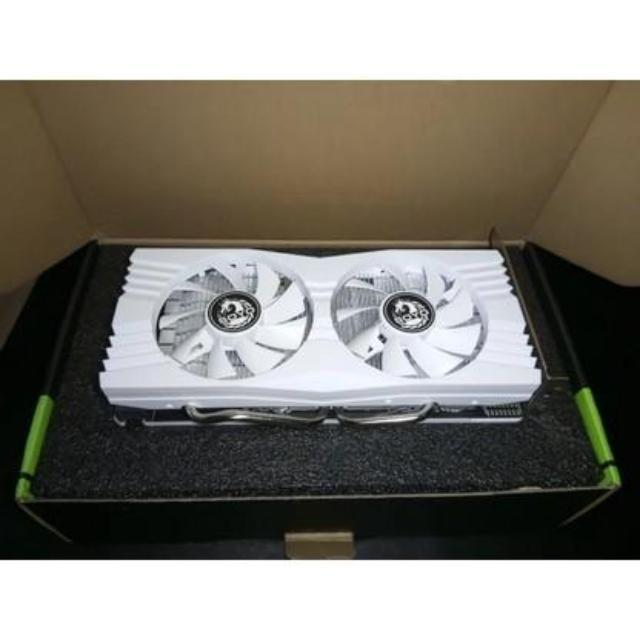GPU: (108, 242, 540, 426)
